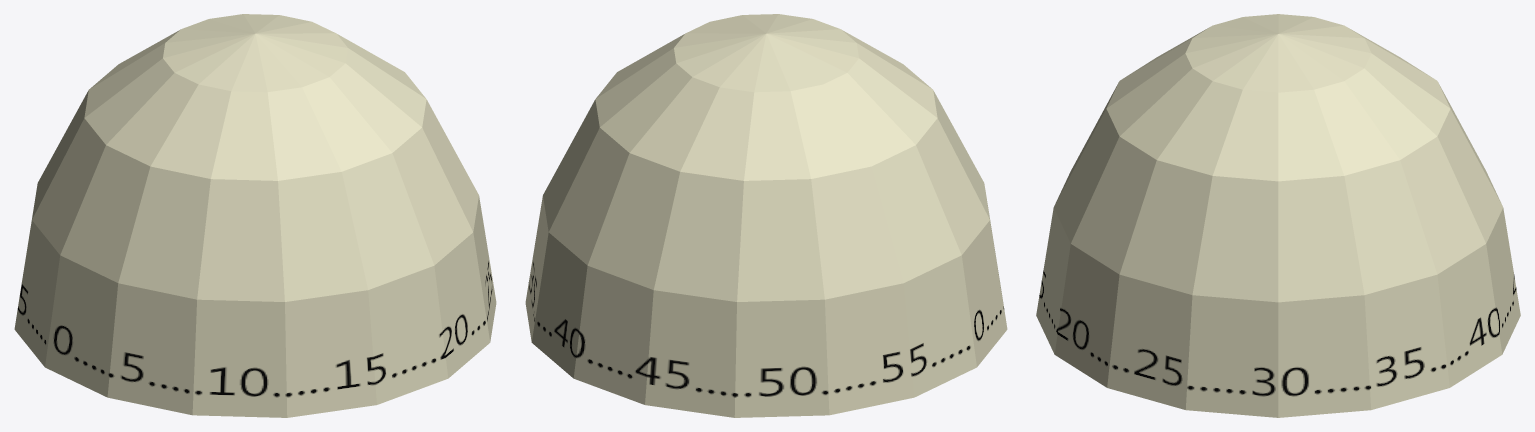
The model's file is EggTimerTop.fbx.
3 views of the same model, side by side, from view 1: azimuth 30°, elevation 25°; view 2: azimuth 150°, elevation 25°; view 3: azimuth 270°, elevation 25° (orthographic).
Visible parts, largest first — view 1: EggTimerTop; view 2: EggTimerTop; view 3: EggTimerTop.
Part boxes in pixels (<box>): EggTimerTop: <box>14,14,496,417</box>; EggTimerTop: <box>525,14,1007,417</box>; EggTimerTop: <box>1036,14,1520,417</box>.
Bounding box in the file's own units: 129 × 83.17 × 129.
1 material, 1 textured.
